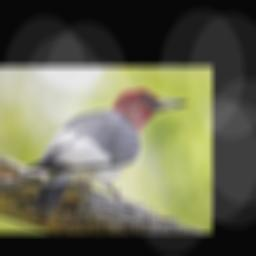Woodpecker: (26, 90, 186, 218)
